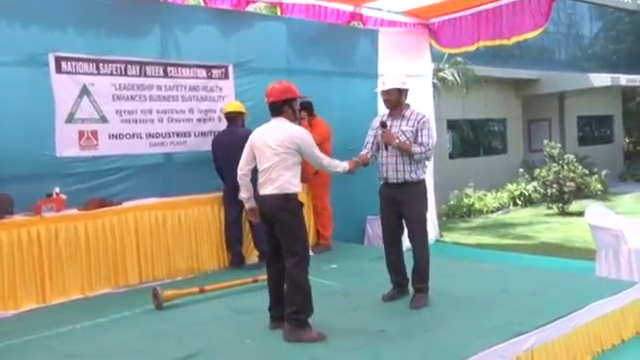helmet: (263, 79, 308, 104), (372, 73, 414, 93), (221, 99, 249, 115)
helmet_on: (262, 78, 308, 128), (372, 70, 417, 120), (219, 97, 251, 129)
person: (237, 77, 358, 343), (355, 69, 434, 312), (212, 97, 265, 269), (299, 96, 336, 255)
